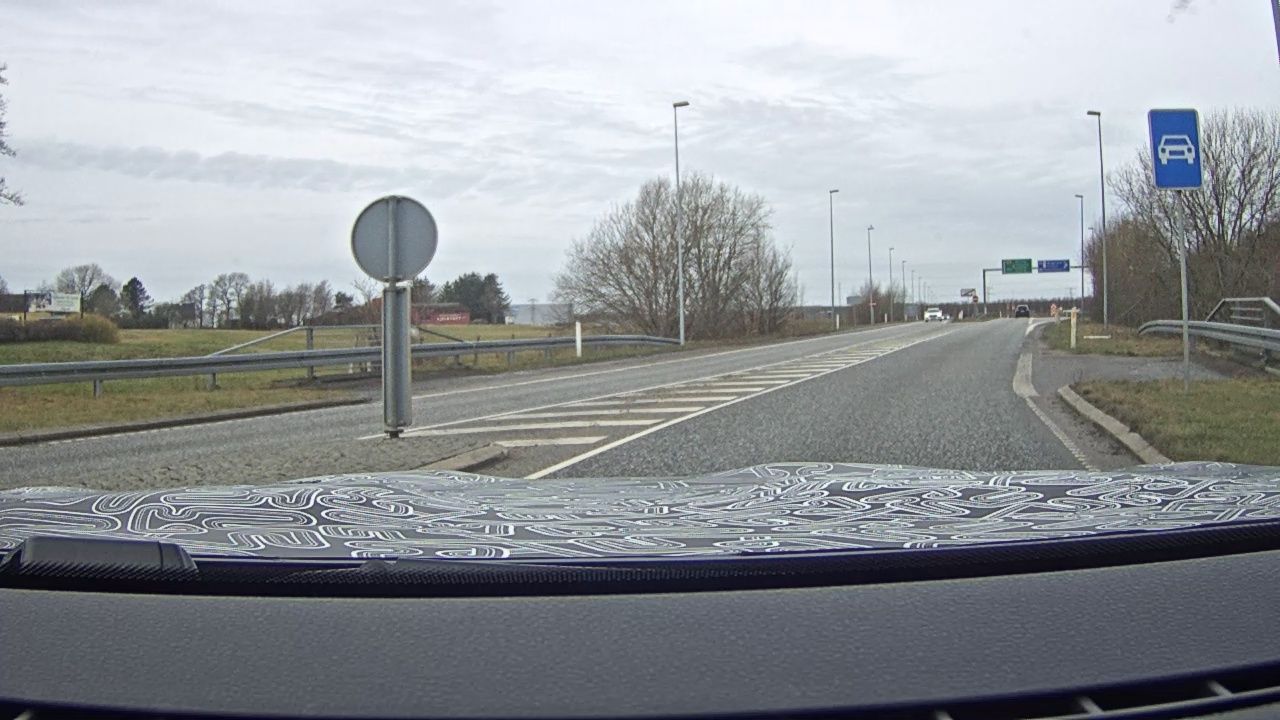Expressway_Begin: (1147, 108, 1204, 190)
